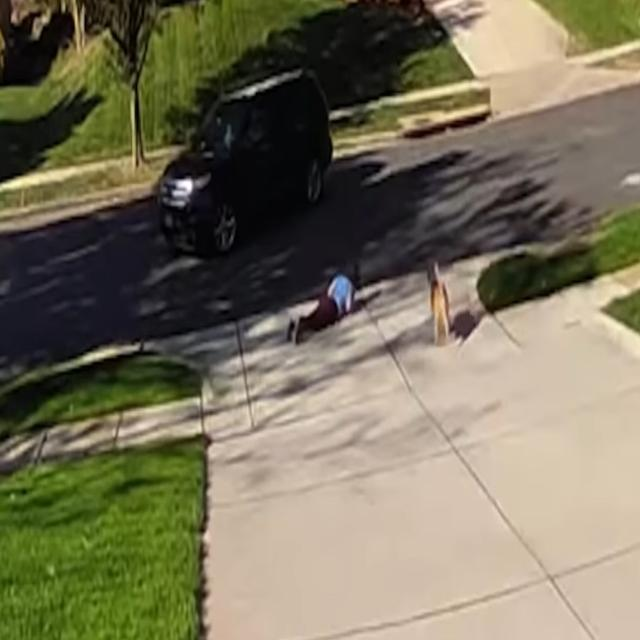fallen: (287, 261, 360, 344)
